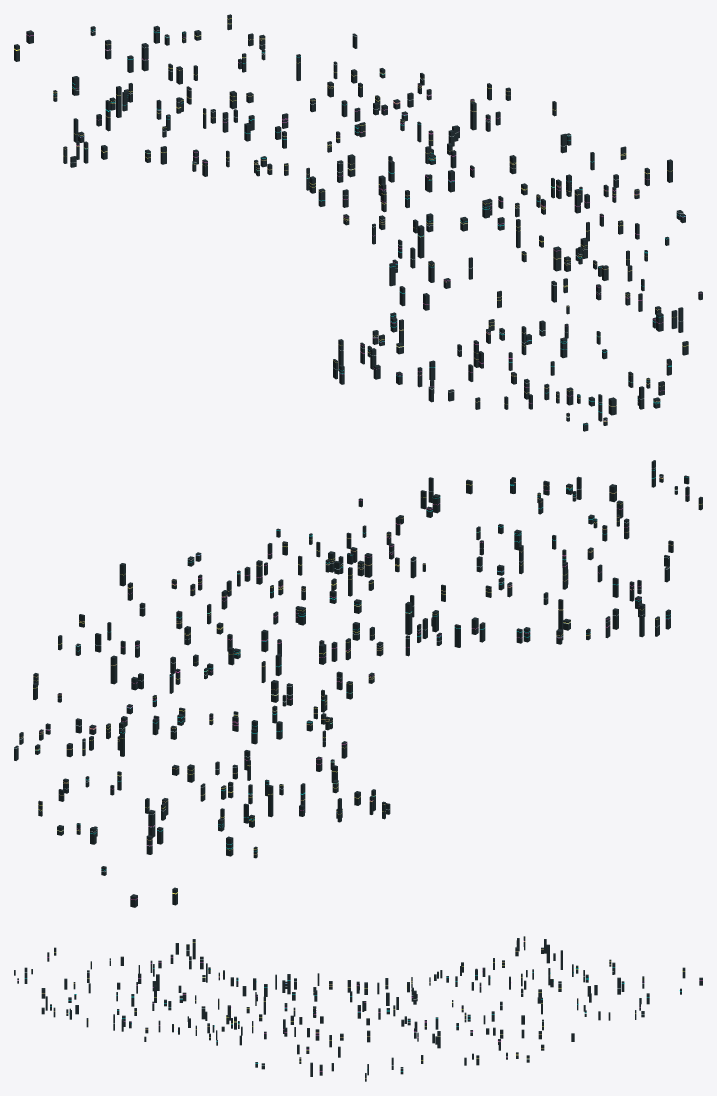
The model's file is Skyline.fbx.
3 views of the same model, one above another, from view 1: azimuth 30°, elevation 25°; view 2: azimuth 150°, elevation 25°; view 3: azimuth 270°, elevation 25° (orthographic). The views are drawn at different scales.
Visible parts, largest first — view 1: Skyline; view 2: Skyline; view 3: Skyline.
Part boxes in pixels (left/top/right/bottom): Skyline: left=14, top=14, right=702, bottom=431; Skyline: left=14, top=460, right=702, bottom=907; Skyline: left=14, top=936, right=702, bottom=1081.
Size of the model in its own units: 9545 by 1186 by 20886.
